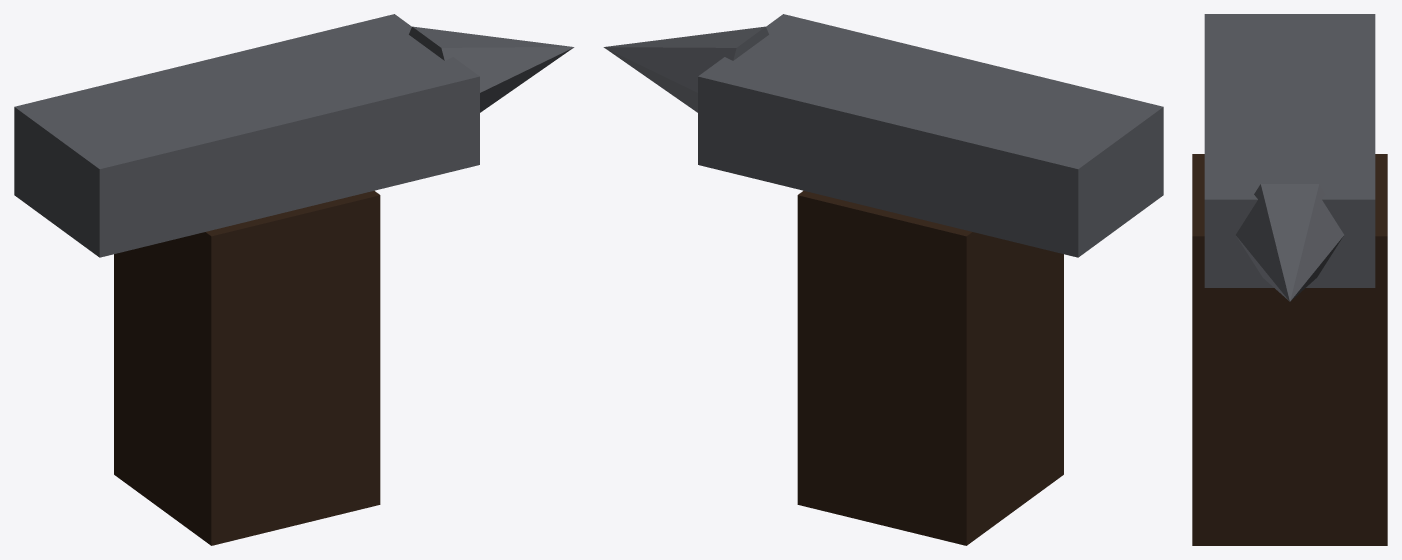
Rendered from anvil.glb.
3 views of the same model, side by side, from view 1: azimuth 30°, elevation 25°; view 2: azimuth 150°, elevation 25°; view 3: azimuth 270°, elevation 25° (orthographic).
Parts seen in each view (by area): view 1: anvil; view 2: anvil; view 3: anvil.
Boxes of the visible parts, x1=… form: anvil: x1=14, y1=14, x2=574, y2=545; anvil: x1=603, y1=14, x2=1163, y2=545; anvil: x1=1192, y1=14, x2=1387, y2=545.
Bounding box in the file's own units: 1.23 × 0.9239 × 0.4.
